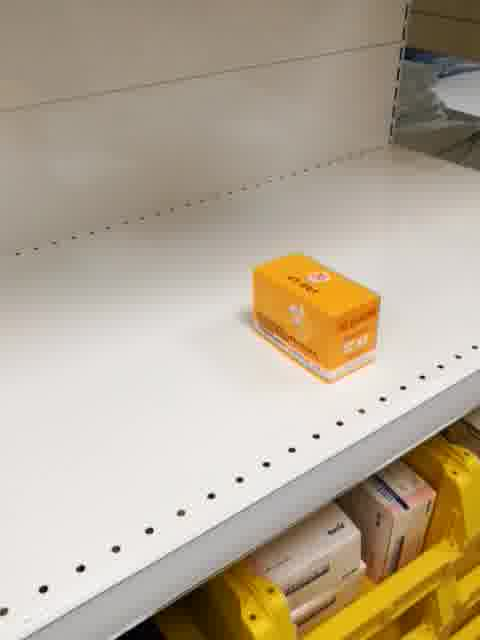jasminetea: (249, 249, 384, 387)
